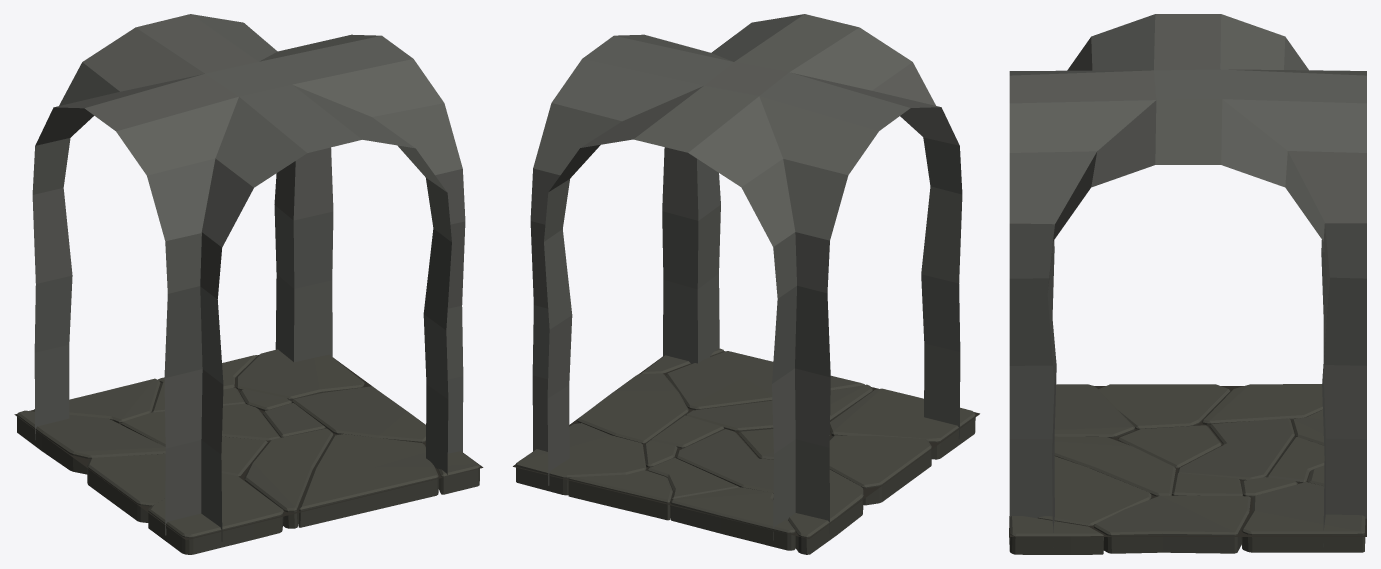
The model's file is Hallway_Crossing.glb.
3 views of the same model, side by side, from view 1: azimuth 30°, elevation 25°; view 2: azimuth 150°, elevation 25°; view 3: azimuth 270°, elevation 25° (orthographic). The views are drawn at different scales.
Visible parts, largest first — view 1: Hallway_Crossing; view 2: Hallway_Crossing; view 3: Hallway_Crossing.
Boxes of the visible parts, box(x1,y1,x2,y2) form: Hallway_Crossing: box(14, 14, 483, 554); Hallway_Crossing: box(513, 14, 979, 554); Hallway_Crossing: box(1009, 14, 1366, 554).
Bounding box in the file's own units: 2 × 2.45 × 2.
Materials: 2 (2 with a texture image).
